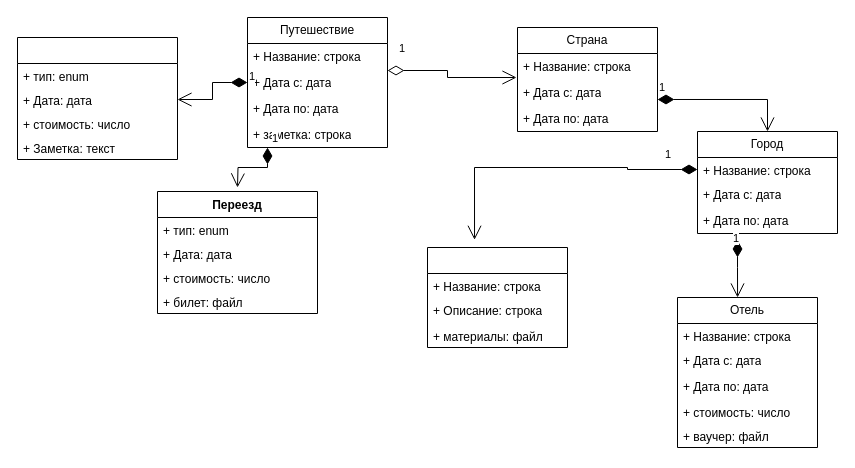
Some shapes in this 855 by 468 pixel diagram are drawn without their labels. Each missing label, with the box of its shape:
Место: (426, 246, 568, 348)
Трата: (16, 36, 178, 160)
